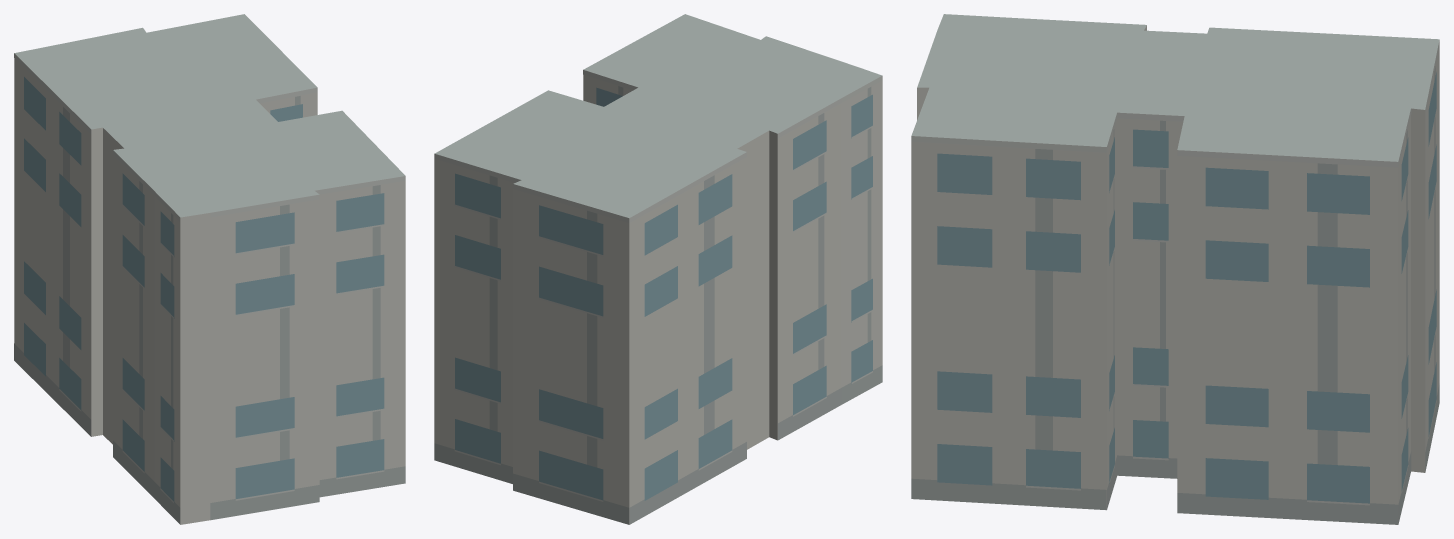
Rendered from survey-upis-32904596.glb.
The picture shows the model from 3 angles, left to right: view 1: azimuth 30°, elevation 25°; view 2: azimuth 150°, elevation 25°; view 3: azimuth 270°, elevation 25°; orthographic projection. The views are drawn at different scales.
Visible parts, largest first — view 1: survey-upis-32904596.tmp; view 2: survey-upis-32904596.tmp; view 3: survey-upis-32904596.tmp.
Boxes of the visible parts, x1=… form: survey-upis-32904596.tmp: x1=14, y1=14, x2=405, y2=524; survey-upis-32904596.tmp: x1=434, y1=14, x2=882, y2=524; survey-upis-32904596.tmp: x1=911, y1=14, x2=1439, y2=524.
Size of the model in its own units: 13.33 by 15.25 by 20.13.
